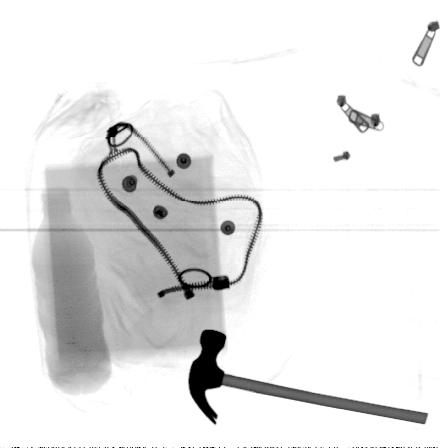Hammer: (186, 327, 429, 428)
